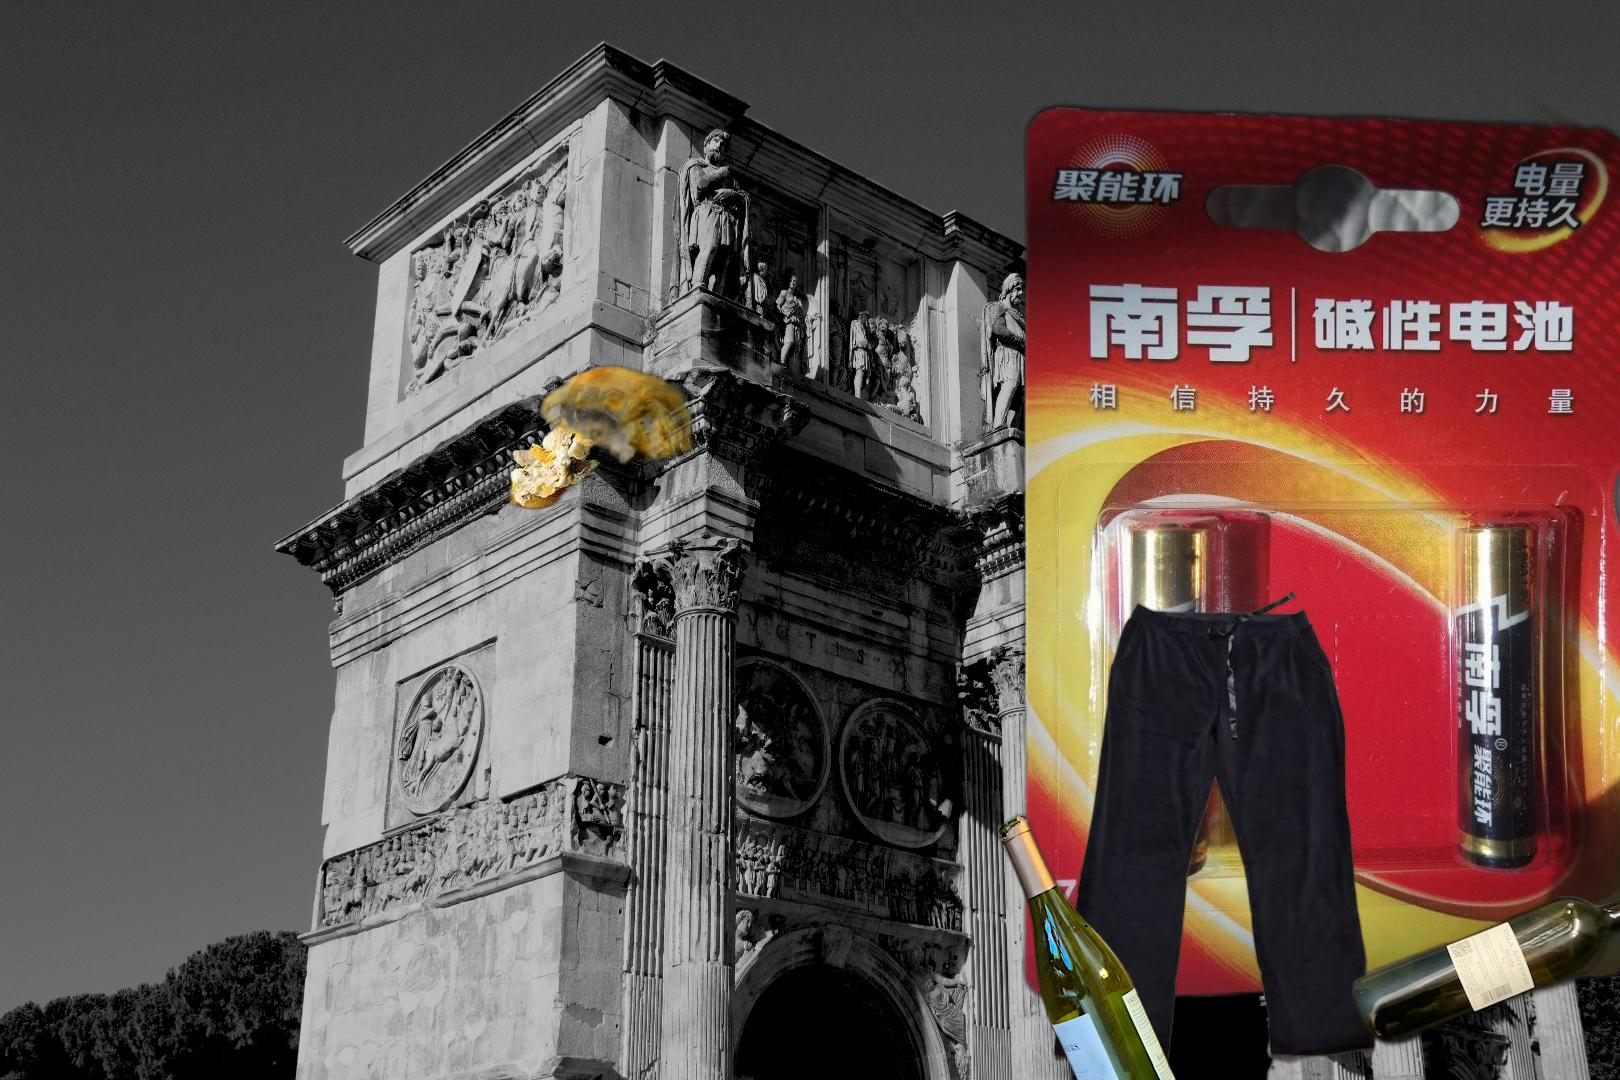battery: (1019, 18, 1620, 1019)
biological: (409, 356, 714, 553)
clothes: (1050, 587, 1378, 1072)
glass: (716, 714, 1228, 1080), (1282, 868, 1620, 1080)
